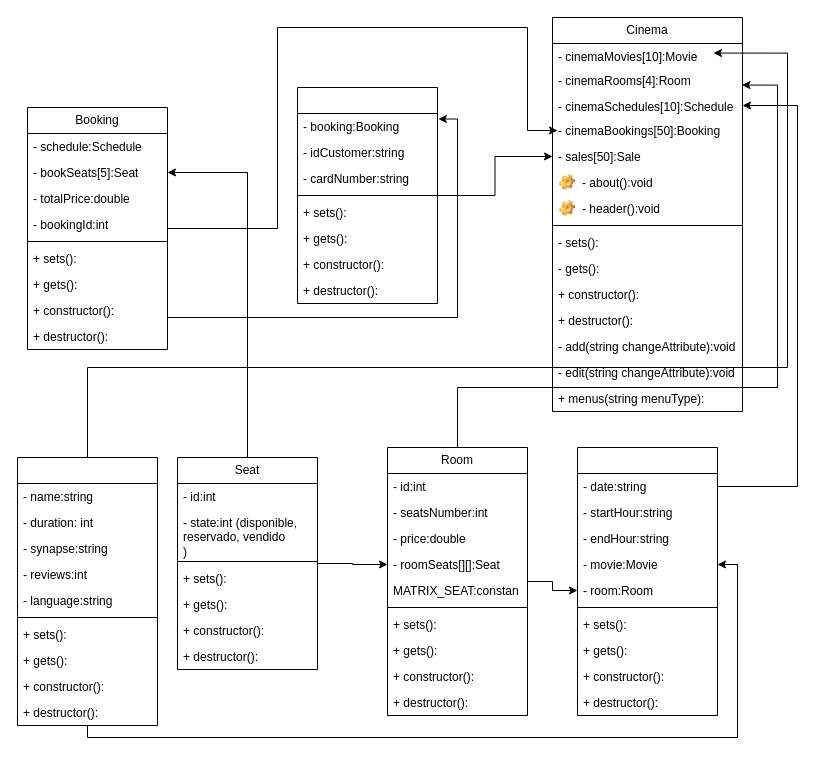
Some shapes in this 823 by 763 pixel diagram are drawn without their labels. Each missing label, with the box of its shape:
Movie: (16, 456, 158, 726)
Sale: (296, 86, 438, 304)
schedule: (576, 446, 718, 716)
